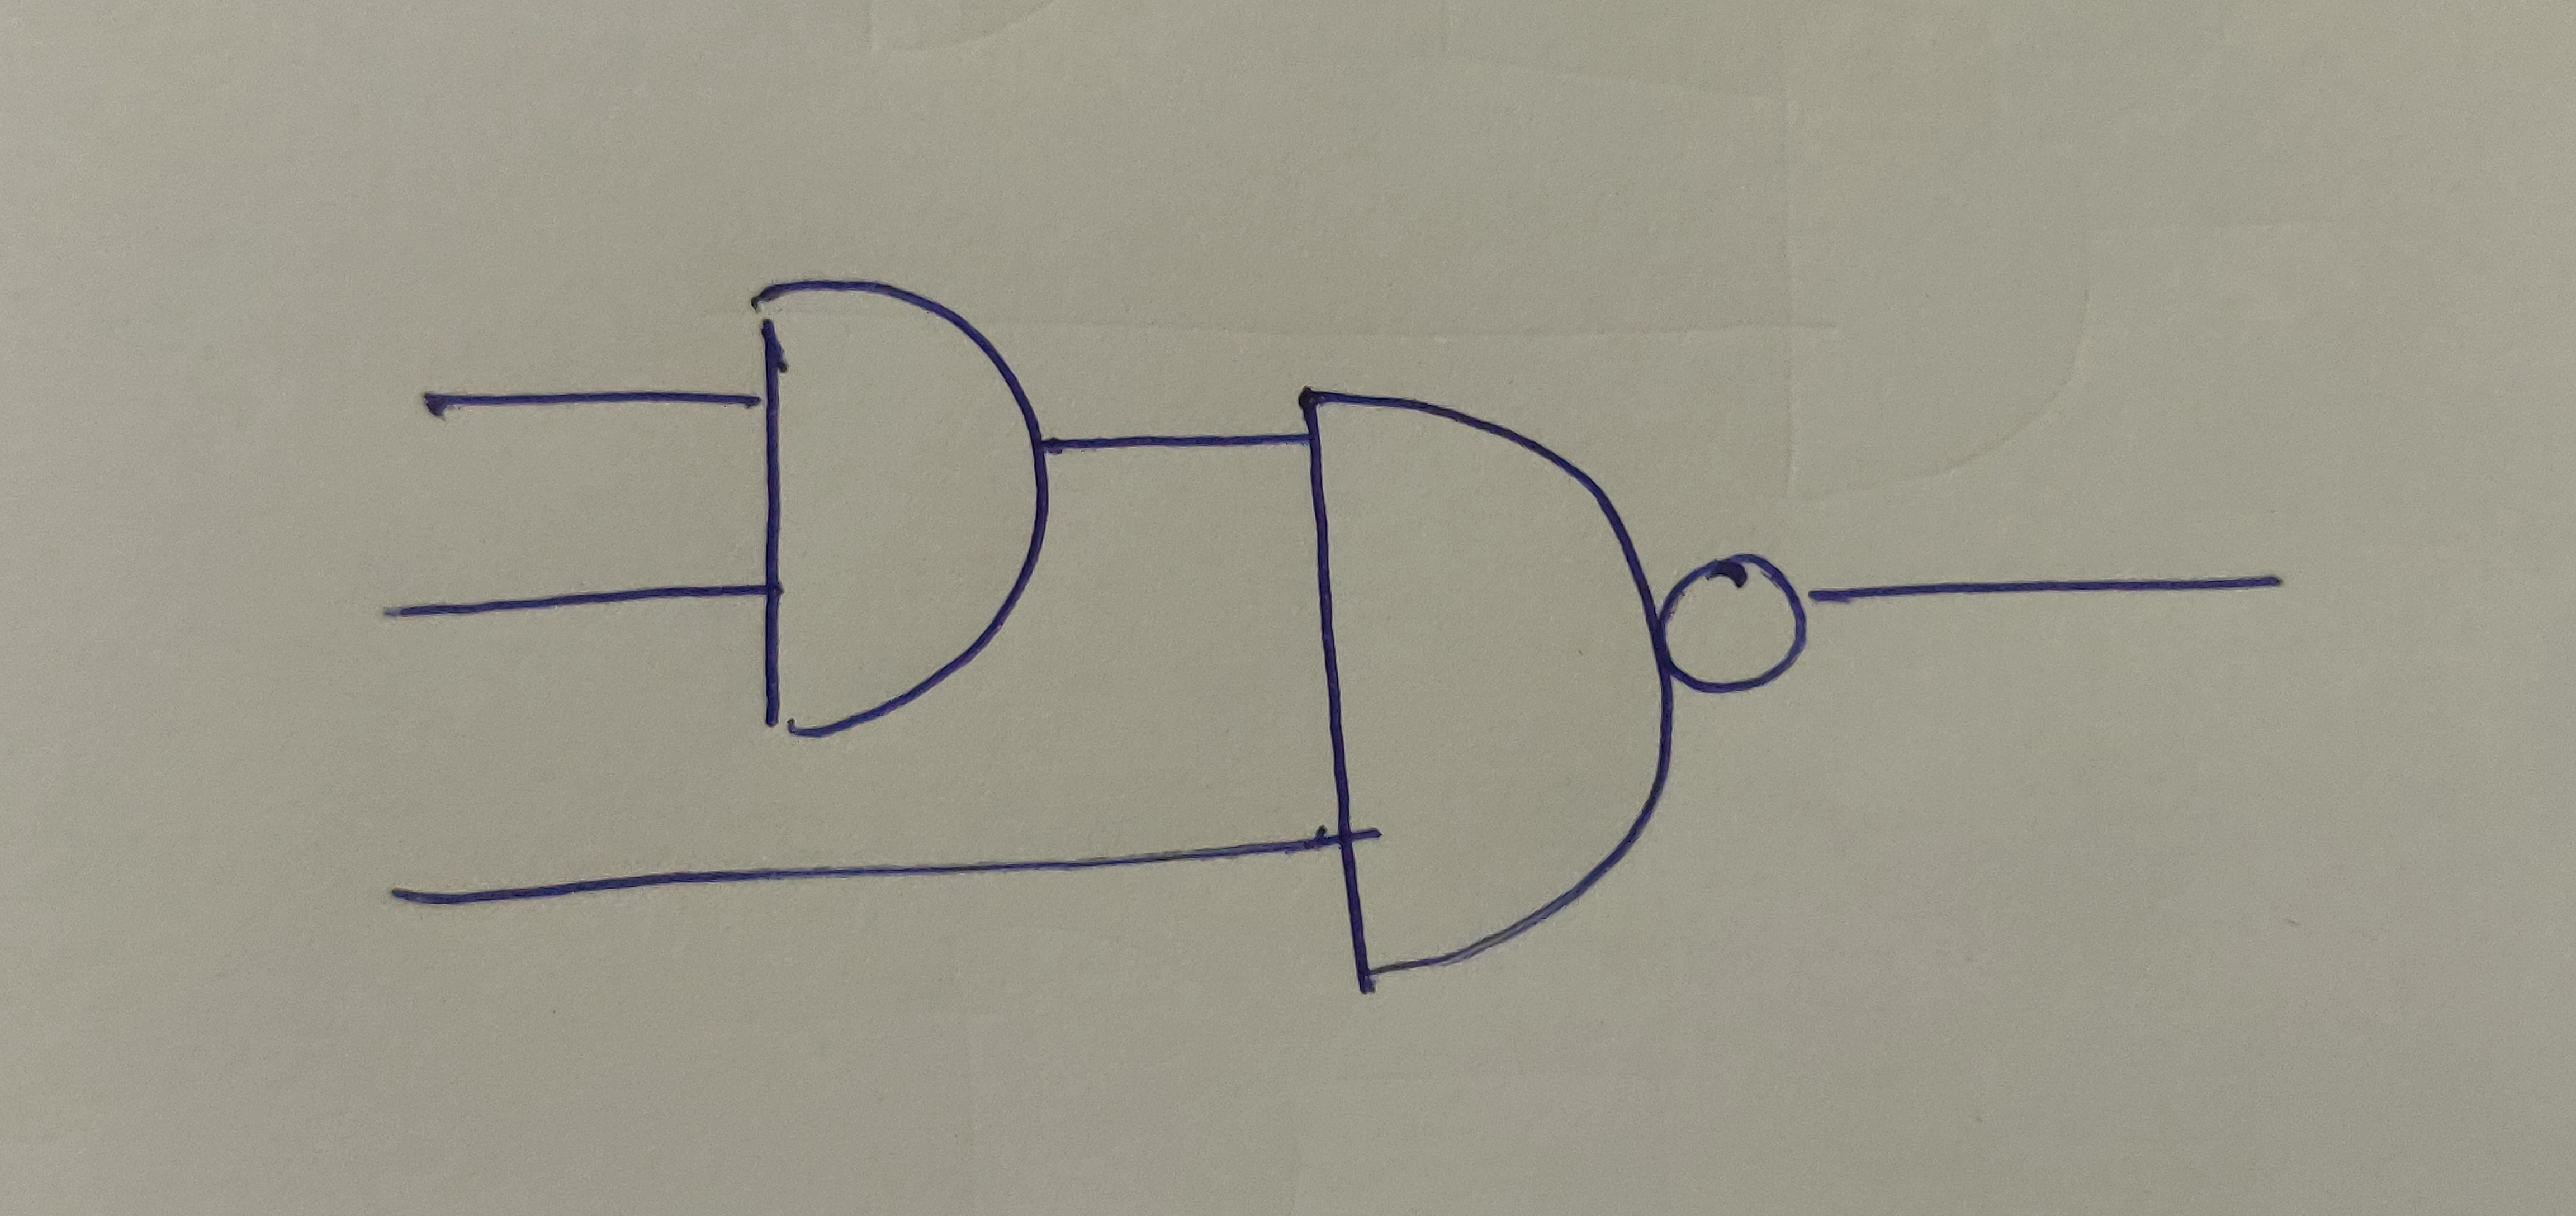and: (1296, 383, 1671, 979), (749, 278, 1053, 736)
not: (1653, 554, 1810, 697)
